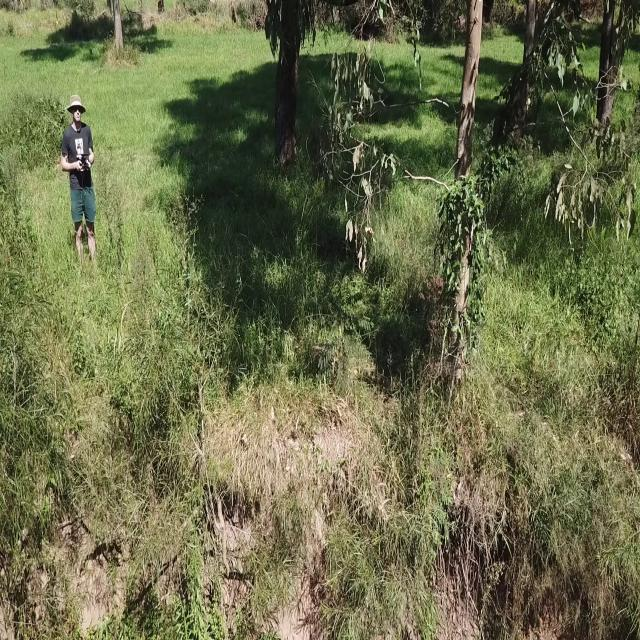Mysore-Thorn-Weed: (288, 265, 386, 401)
